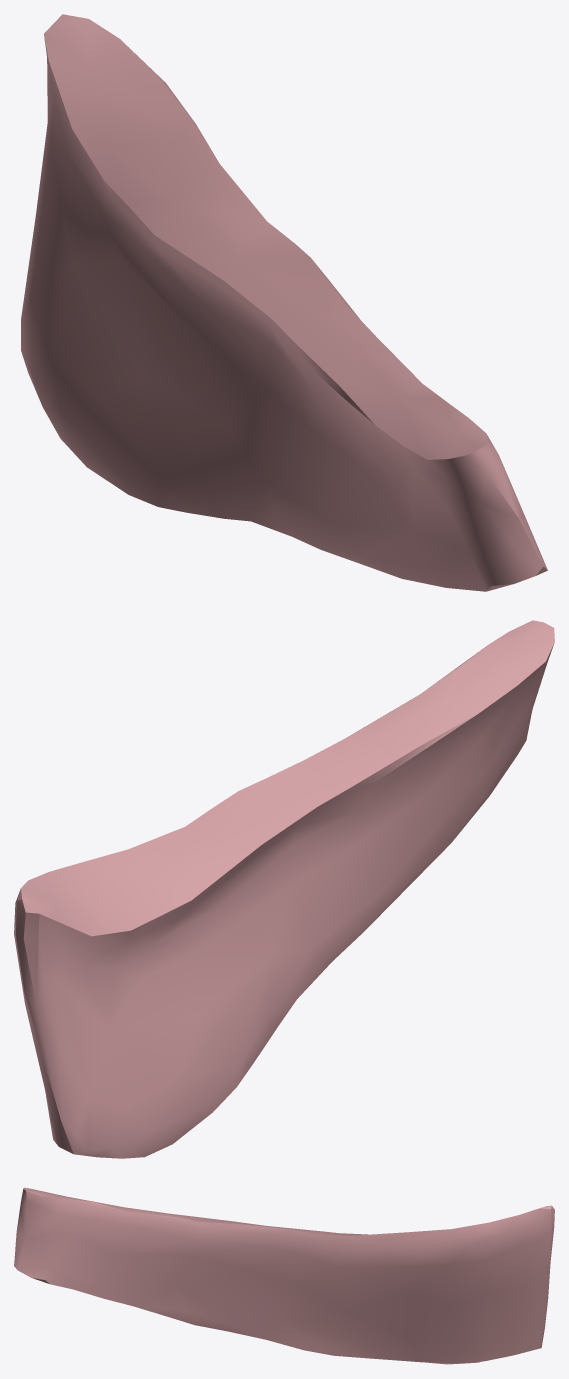
The model's file is fma275371_mm3365.glb.
The picture shows the model from 3 angles, top to bottom: view 1: azimuth 30°, elevation 25°; view 2: azimuth 150°, elevation 25°; view 3: azimuth 270°, elevation 25°; orthographic projection. The views are drawn at different scales.
Parts seen in each view (by area): view 1: FMA275371_MM3365; view 2: FMA275371_MM3365; view 3: FMA275371_MM3365.
Part boxes in pixels (left/top/right/bottom): FMA275371_MM3365: left=21, top=14, right=547, bottom=591; FMA275371_MM3365: left=14, top=620, right=554, bottom=1158; FMA275371_MM3365: left=14, top=1187, right=554, bottom=1364.
Size of the model in its own units: 0.00567 by 0.0106 by 0.029.
